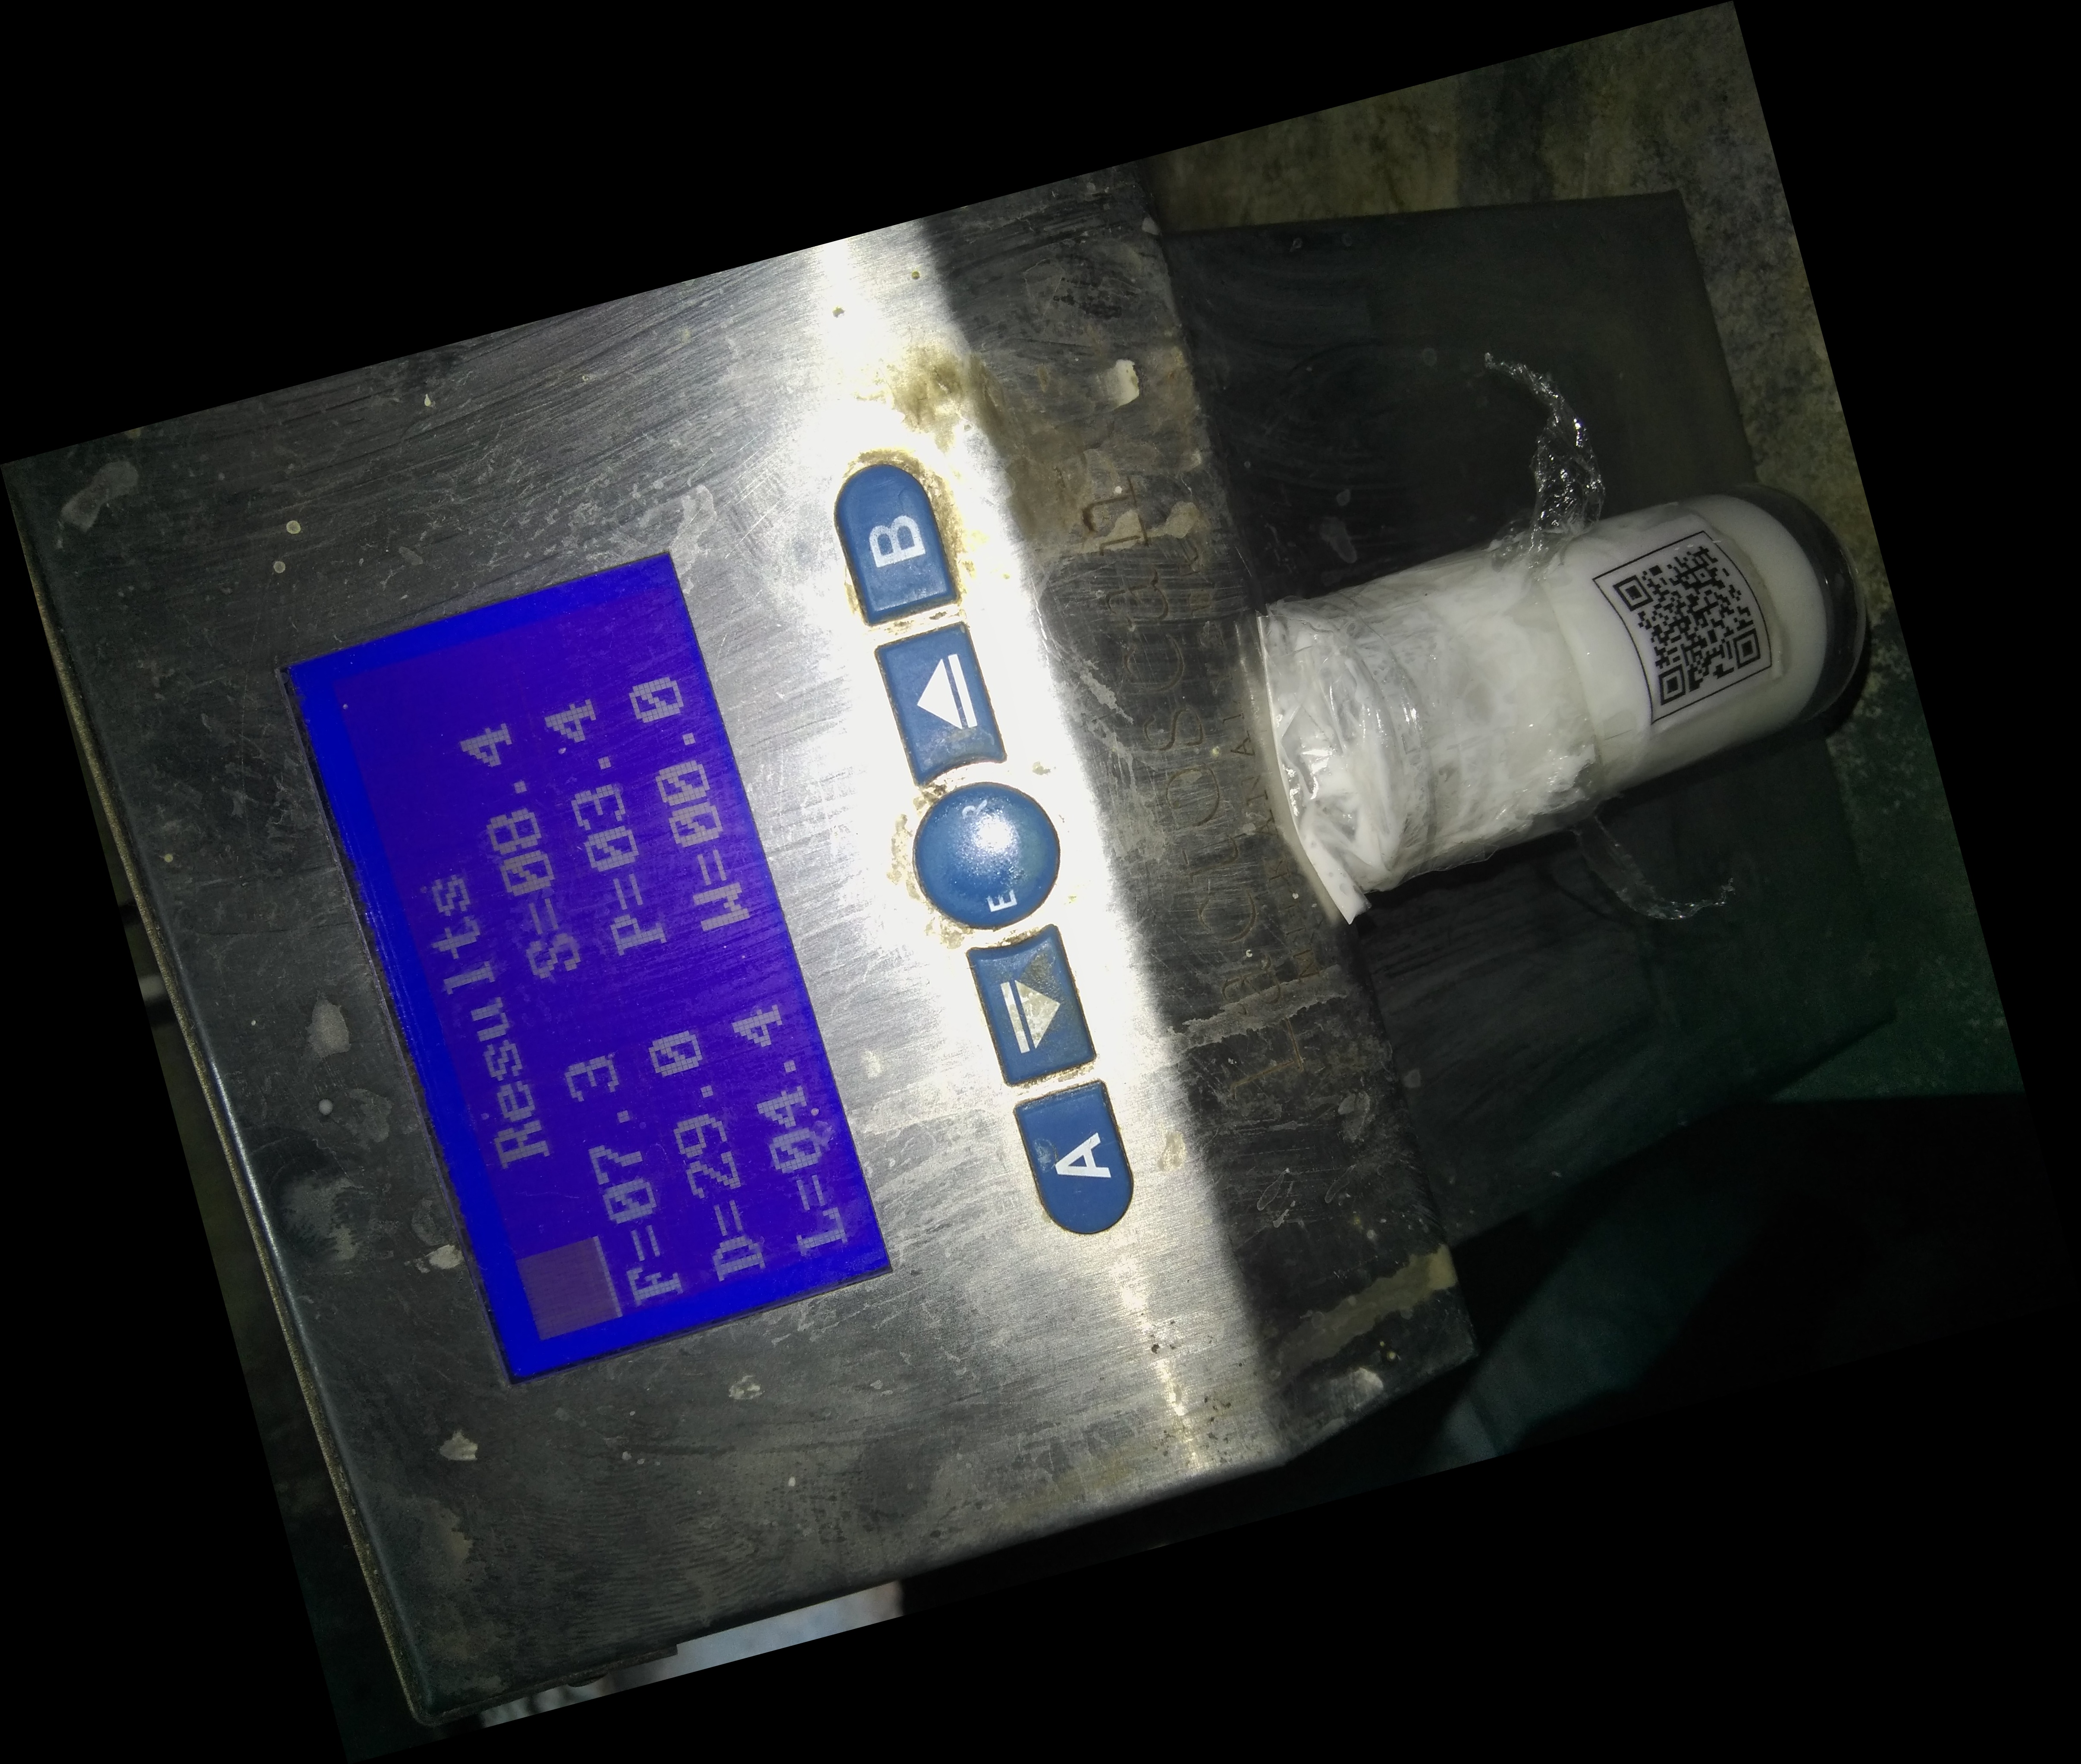lcd: (249, 549, 912, 1412)
qr: (1579, 497, 1785, 717)
